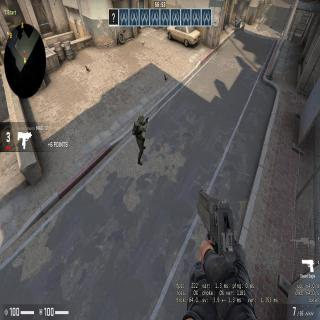CT-Body: (132, 108, 150, 156)
CT-Head: (137, 113, 146, 123)
